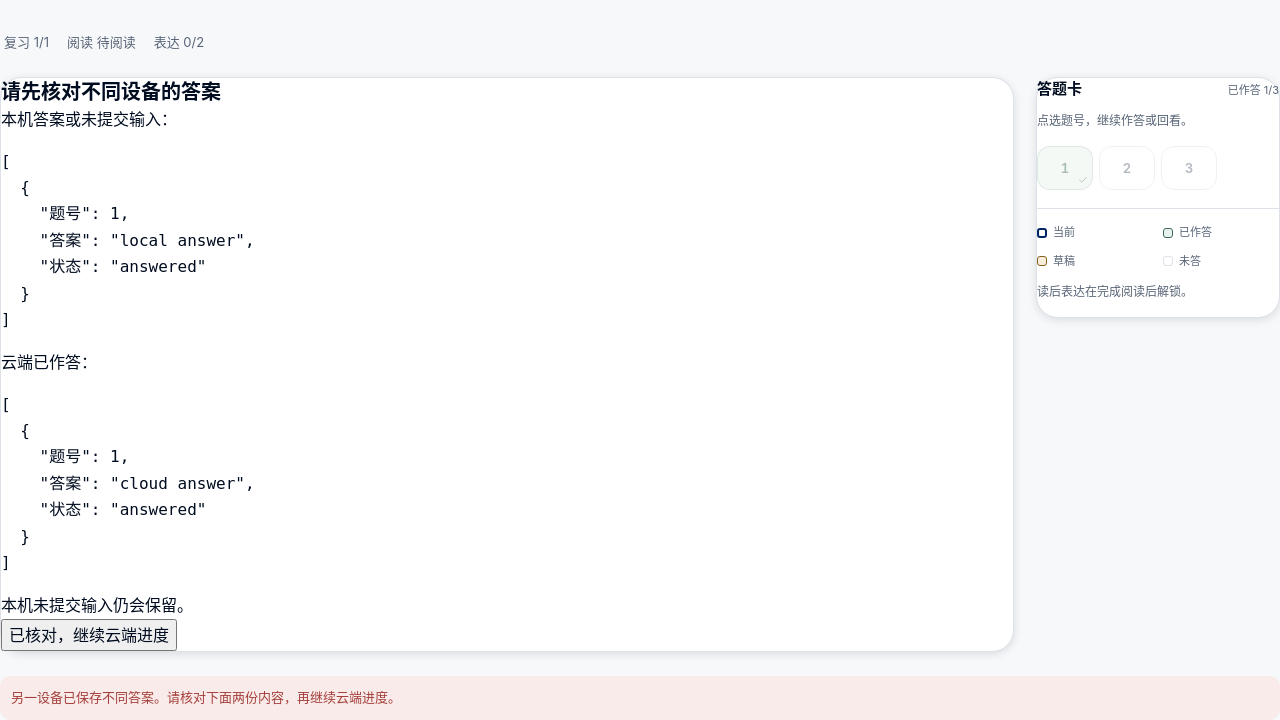
Test: lesson phases and evidence › preserves conflicting local and cloud answers until explicitly resolved
The image size is (1280, 720).
(page scrolled)
Expected: the heading "请先核对不同设备的答案" is shown, [1,80,221,104]
Expected: the text "[ { \"题号\": 1, \"答案\": \"local answer\", \"状态\": \"answered\" } ]" is shown, [1,152,255,329]
Click the button "已核对，继续云端进度" at (89, 635), box [1,619,177,651]
(page scrolled)
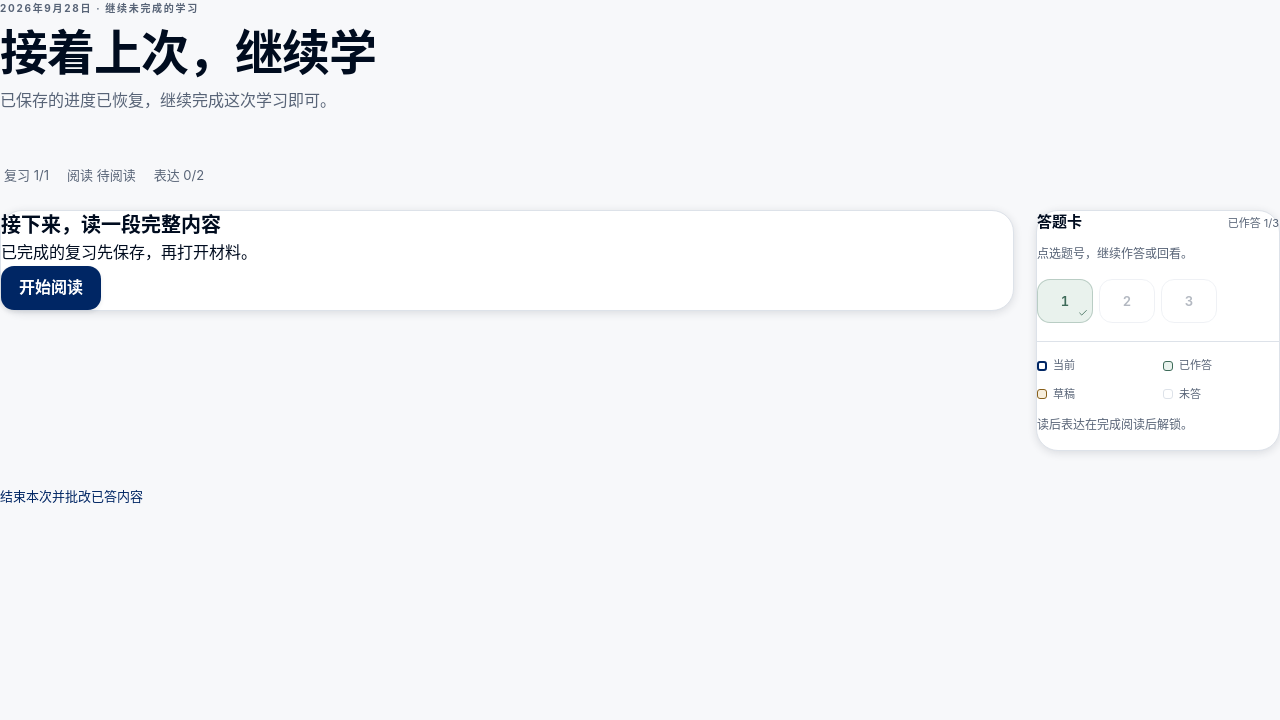
Expected: the button "开始阅读" is shown, [1,266,101,310]
